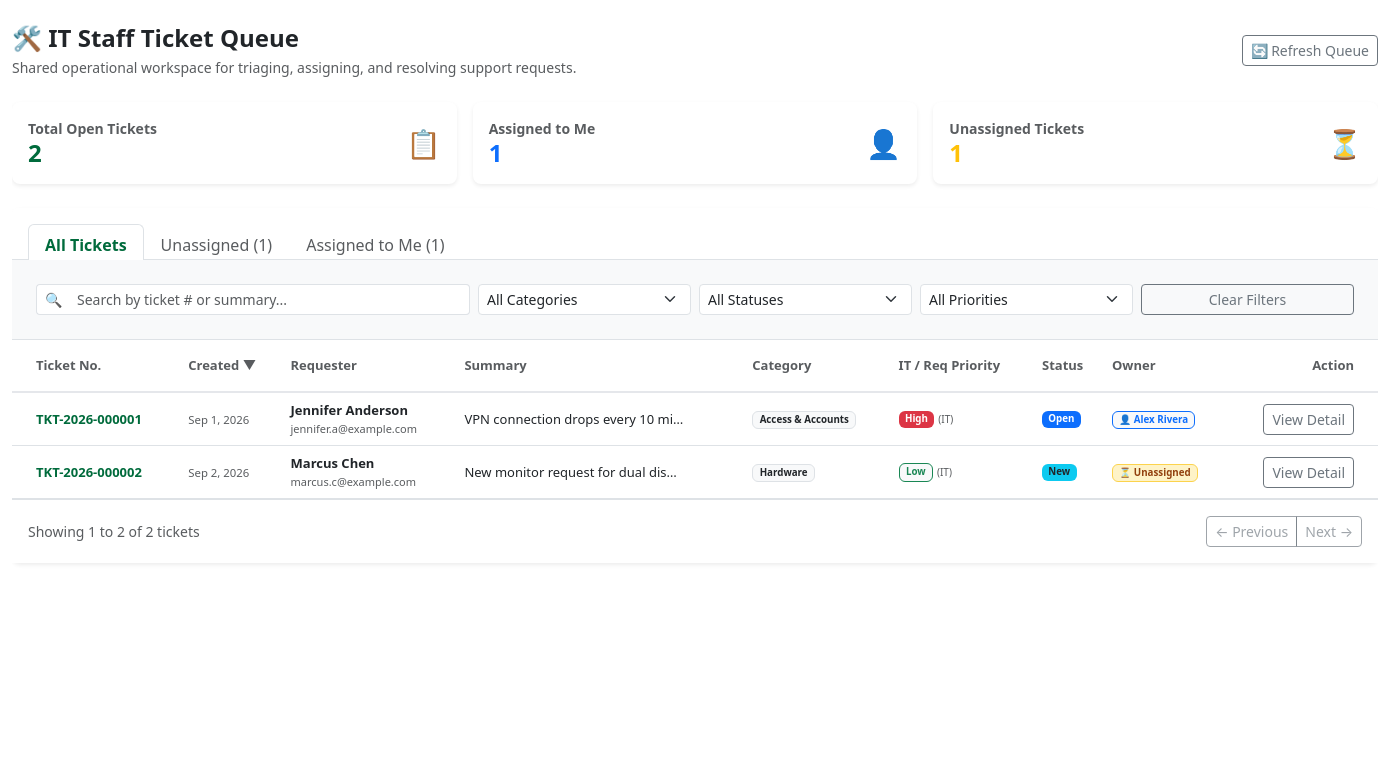
StaffTicketQueue Component (Teacher Mockup 2, AC-07, AC-08, BR-06, BR-07) › clears all filters when Clear Filters button is clicked (AC-07)
Expected: the row with test id "ticket-row-1" is shown, [12,392,1378,446]
Type "VPN" into the field with test id "staff-search-input" at (270, 299), box [69,284,470,315]
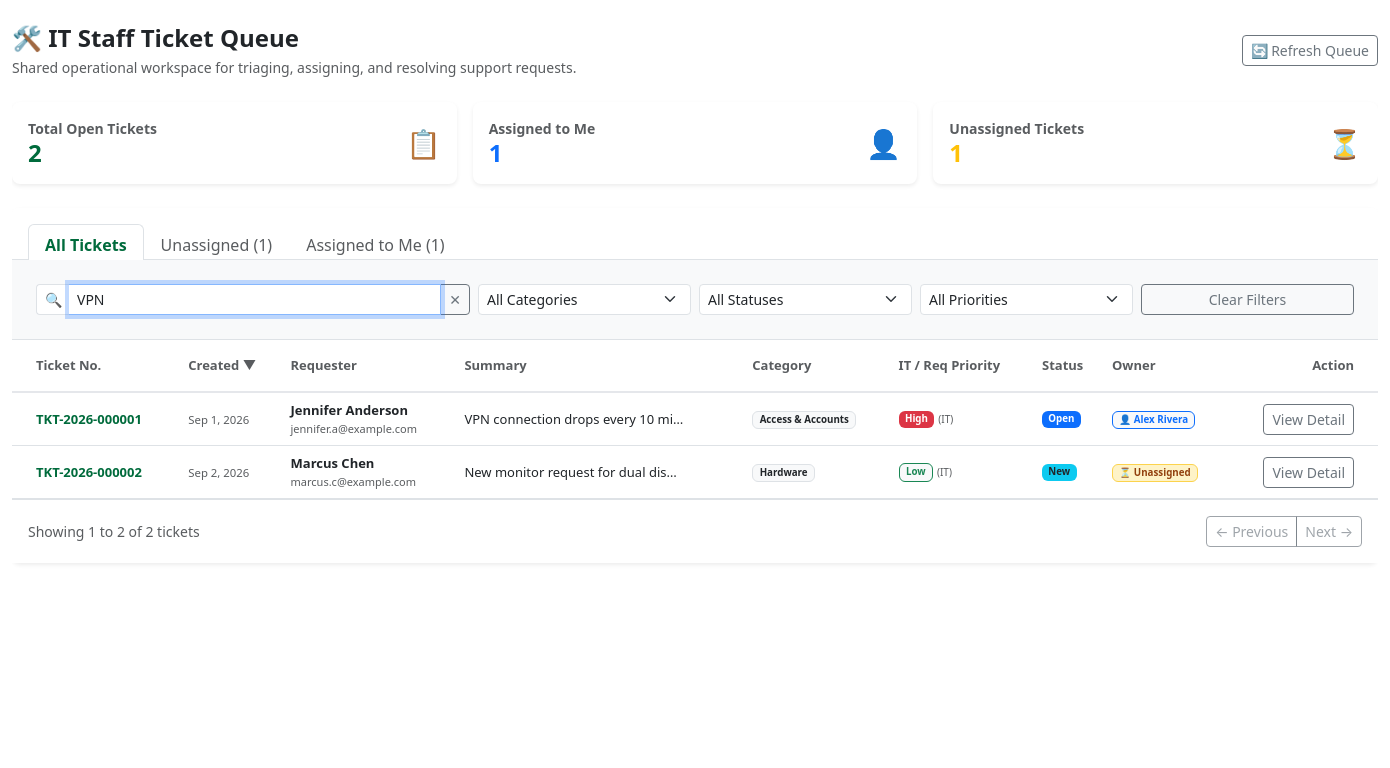
Click the button with test id "clear-filters-btn" at (1248, 299), box [1141,284,1354,315]
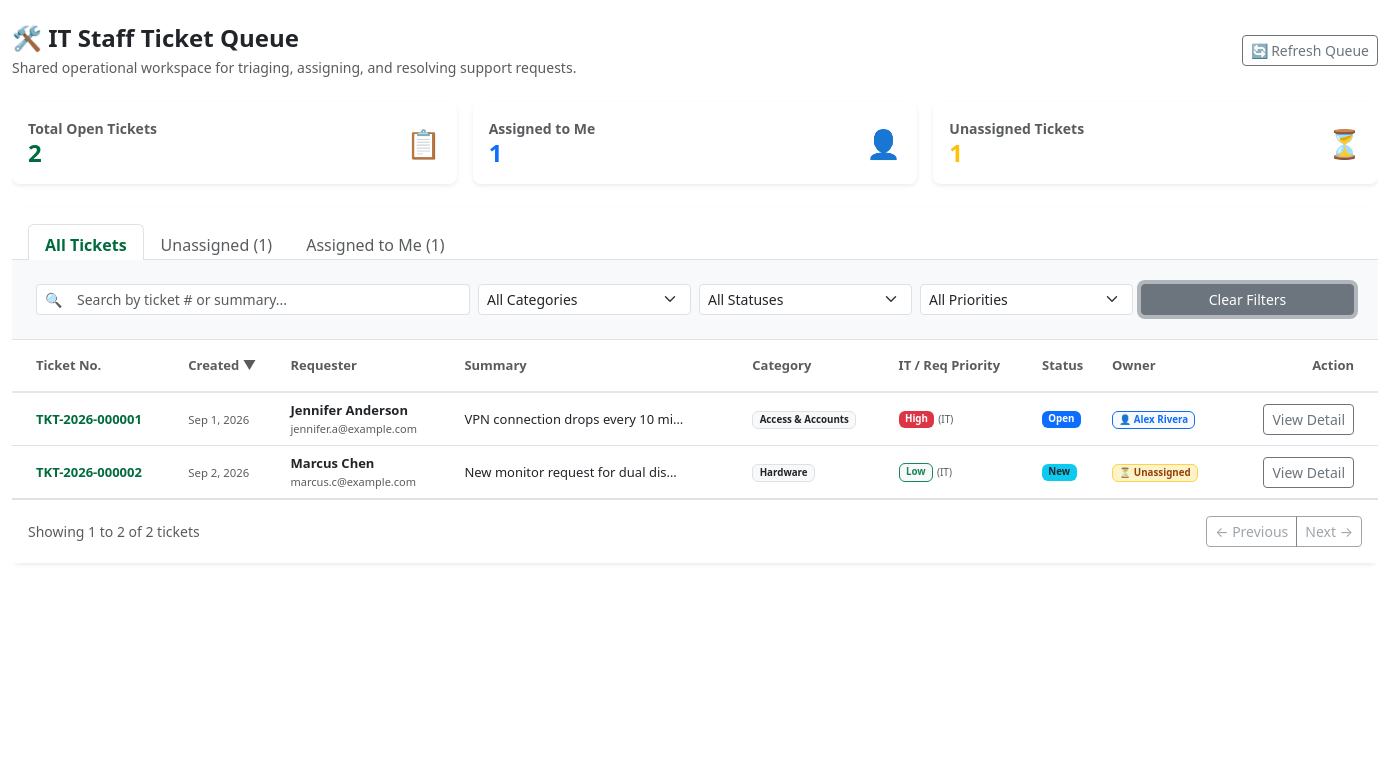
Now the field with test id "staff-search-input" is empty, box [69,284,470,315]
